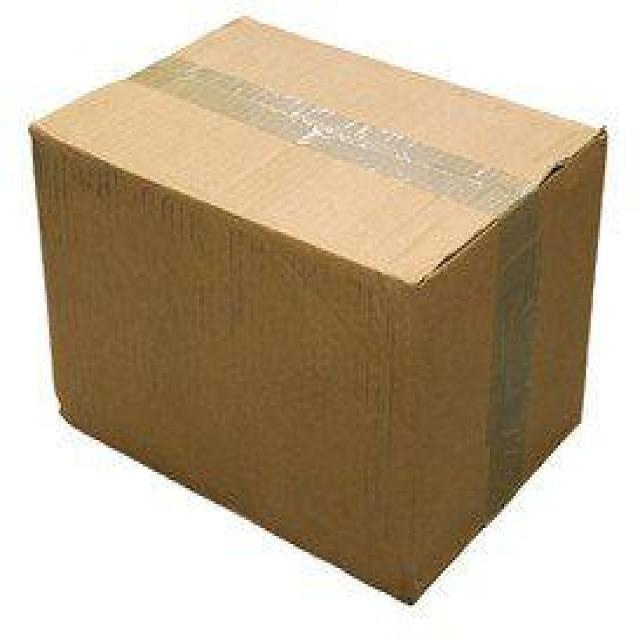box: (29, 15, 612, 605)
